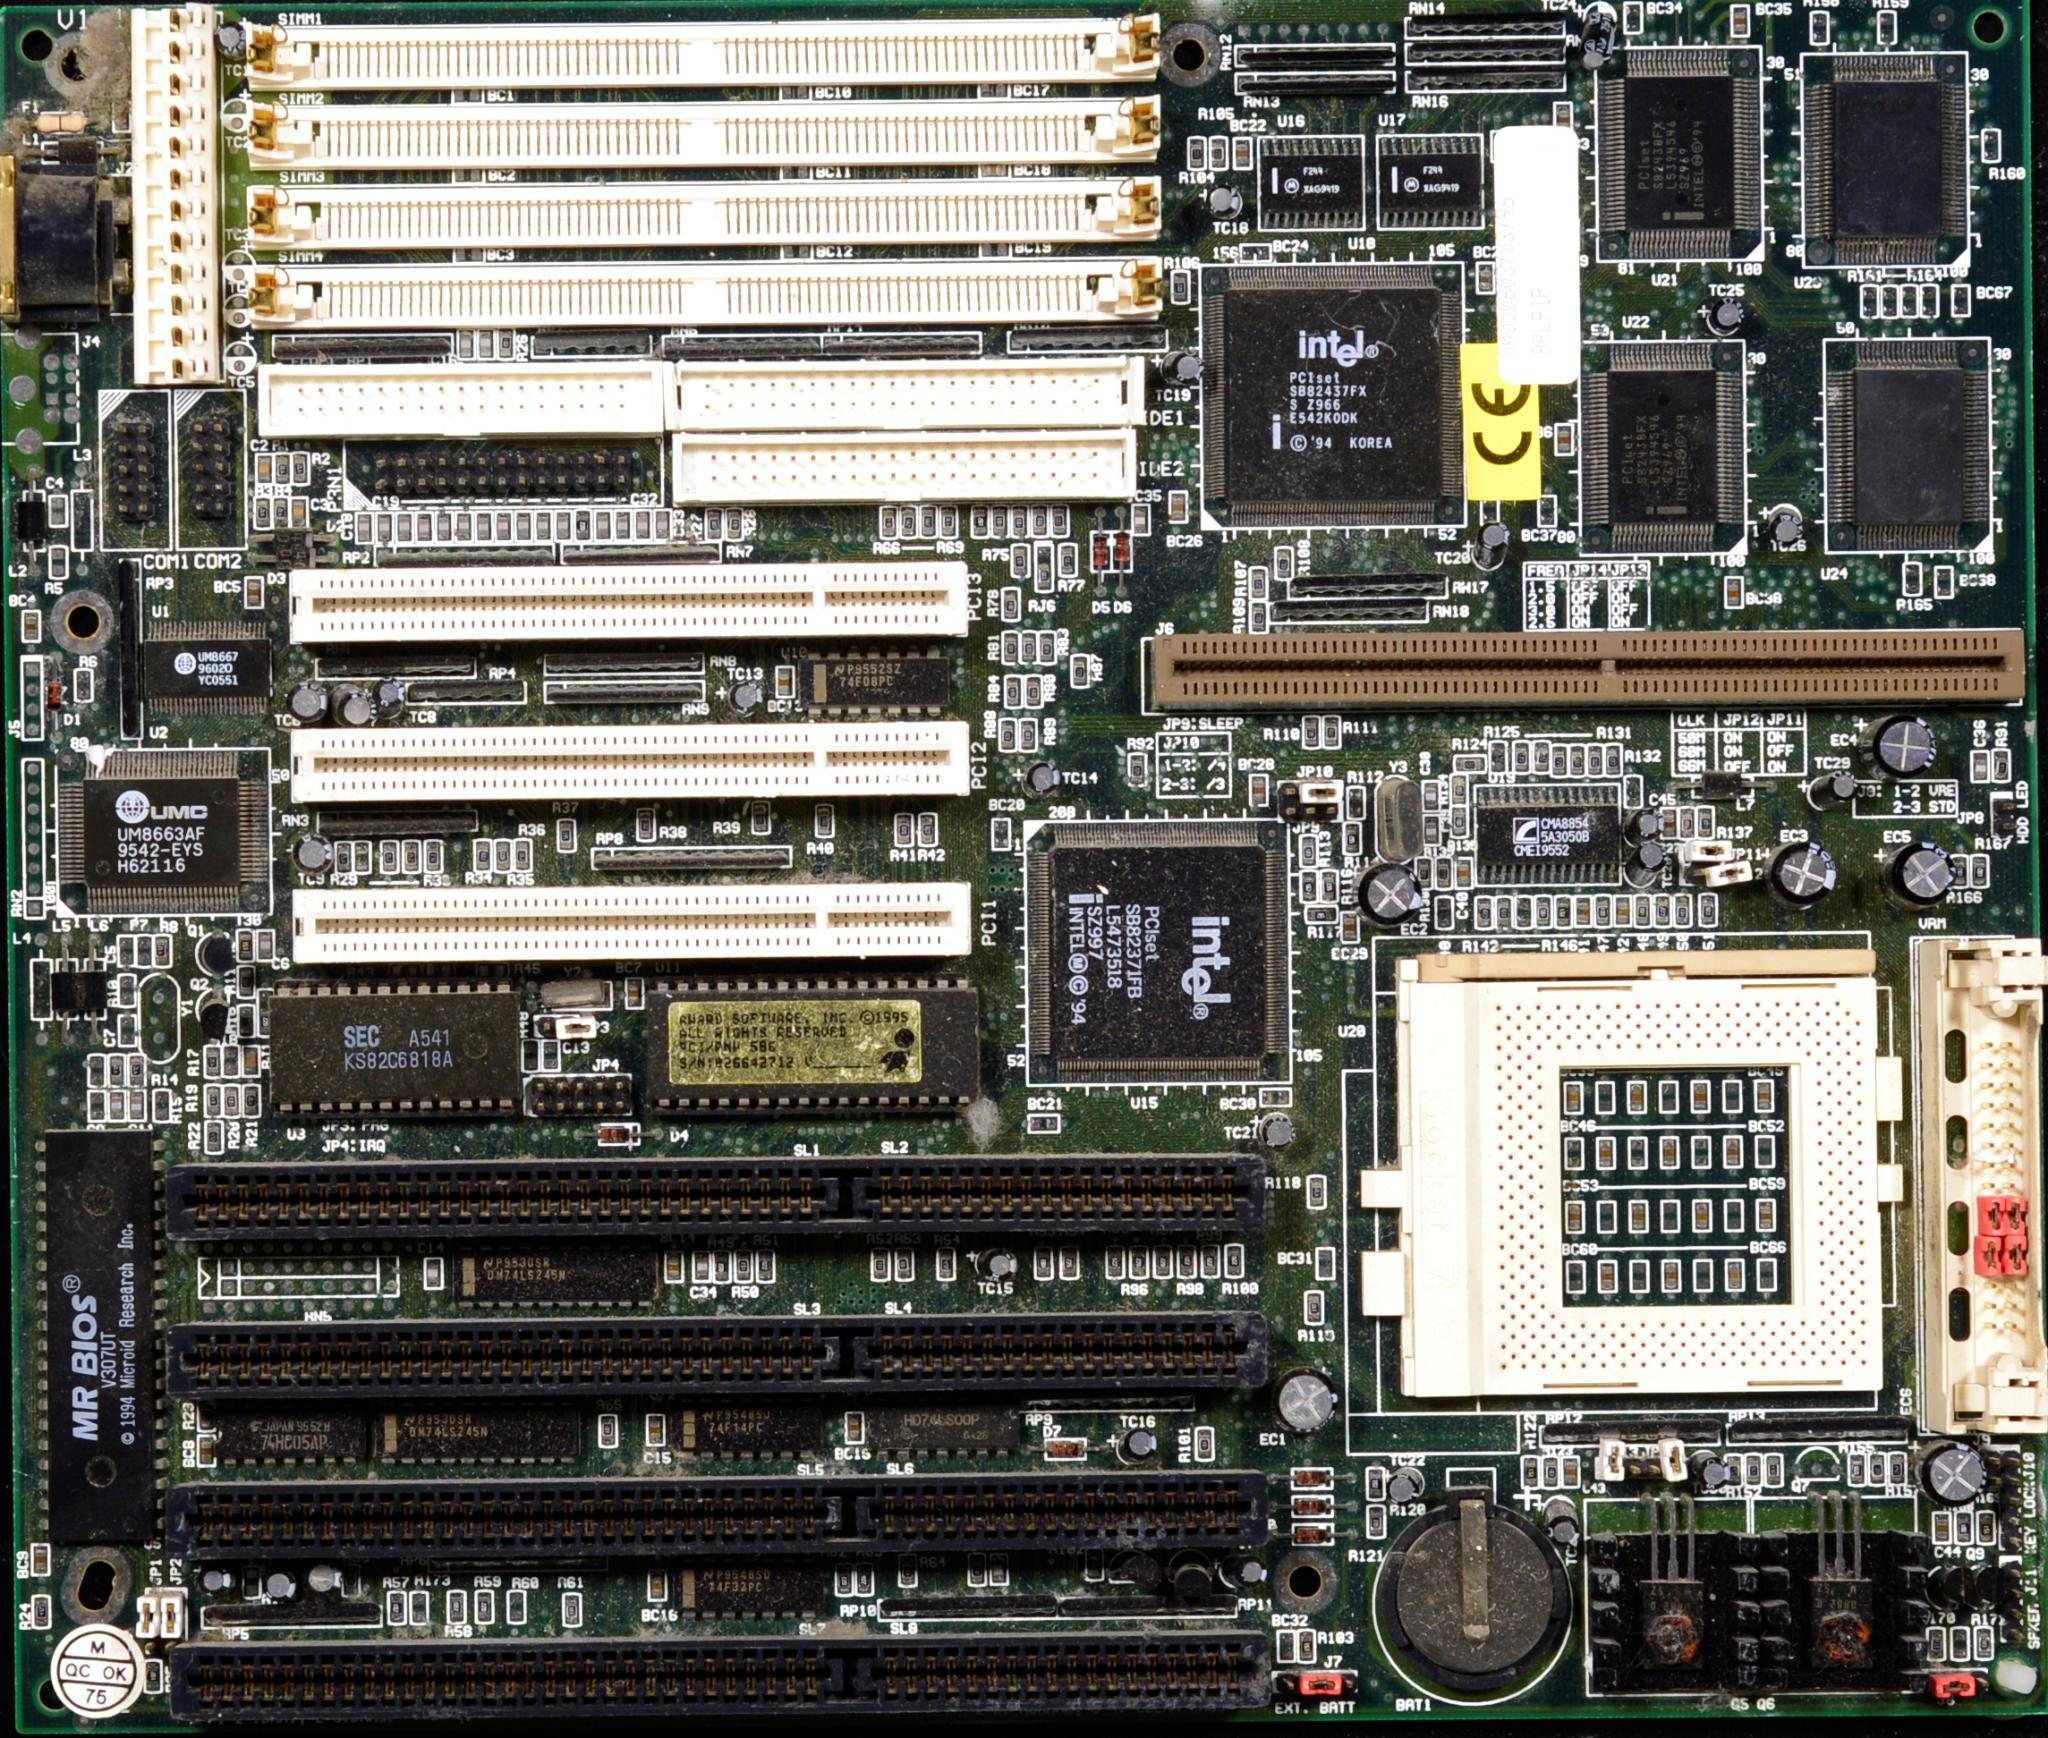Capacitor Jumper: (664, 1240, 681, 1279), (240, 1043, 259, 1076), (1560, 1455, 1579, 1488), (414, 510, 433, 543), (1969, 748, 1988, 781), (691, 1241, 707, 1281), (541, 1038, 560, 1069), (653, 509, 672, 540), (533, 510, 552, 541), (1474, 895, 1491, 928), (1341, 909, 1358, 941), (434, 510, 452, 543), (493, 510, 510, 543), (1612, 895, 1631, 924), (552, 510, 571, 540), (396, 510, 412, 543), (453, 510, 469, 543), (646, 1414, 664, 1443), (1658, 807, 1676, 836), (50, 493, 66, 524), (291, 495, 307, 526), (376, 512, 391, 543), (514, 512, 529, 543), (474, 512, 490, 543), (1934, 1512, 1950, 1541), (1133, 505, 1148, 535), (1457, 859, 1472, 888), (255, 453, 271, 481), (633, 510, 648, 538), (574, 512, 590, 540), (1679, 807, 1693, 838), (593, 509, 607, 538), (614, 510, 628, 540)
Connector: (1143, 633, 2034, 707), (1919, 933, 2048, 1435), (231, 266, 1171, 328), (224, 17, 1157, 79), (243, 181, 1169, 241), (226, 100, 1162, 159), (176, 1317, 840, 1391), (176, 1164, 833, 1236), (291, 888, 971, 957), (186, 1485, 845, 1555), (290, 726, 972, 793), (172, 1643, 852, 1710), (290, 567, 965, 635), (252, 357, 676, 441), (131, 9, 221, 381), (679, 357, 1140, 429), (667, 434, 1133, 503), (843, 1160, 1267, 1233), (852, 1317, 1258, 1391), (855, 1478, 1276, 1543), (855, 1635, 1265, 1698), (357, 447, 657, 493)
IC: (1371, 926, 1914, 1410), (1200, 271, 1464, 529), (1029, 829, 1284, 1079), (33, 1128, 167, 1559), (59, 745, 274, 917), (1591, 47, 1764, 260), (1800, 60, 1969, 274), (1826, 338, 1989, 555), (1584, 341, 1748, 550), (1472, 779, 1627, 885), (450, 1248, 660, 1307), (145, 621, 272, 716), (796, 648, 952, 714), (205, 1400, 364, 1464), (1257, 138, 1362, 228), (1374, 140, 1479, 222), (871, 1409, 1022, 1457), (683, 1412, 822, 1459)
Resistor Jumper: (1858, 283, 1879, 319), (386, 1588, 405, 1626), (1969, 852, 1988, 888), (1303, 1290, 1322, 1324), (86, 1090, 107, 1121), (1903, 559, 1920, 595), (1305, 902, 1338, 921), (110, 1055, 129, 1088), (241, 1086, 260, 1119), (126, 1090, 145, 1122), (1976, 1509, 1995, 1541), (446, 1590, 465, 1622), (1250, 600, 1269, 633), (1346, 786, 1365, 819), (1300, 833, 1319, 866), (1553, 893, 1570, 928), (1129, 1241, 1146, 1276), (1367, 1502, 1384, 1536), (1298, 1628, 1315, 1662), (76, 669, 93, 703), (814, 802, 831, 836), (1343, 821, 1360, 855), (1670, 893, 1689, 924), (129, 1057, 148, 1088), (1888, 1454, 1907, 1485), (88, 1053, 105, 1086), (1200, 1241, 1217, 1274), (1226, 1243, 1243, 1276), (757, 1247, 774, 1279), (733, 1248, 750, 1281), (1848, 1452, 1865, 1485), (1869, 1452, 1886, 1485), (478, 1590, 495, 1622), (1929, 1626, 1946, 1659), (1008, 505, 1026, 538), (940, 505, 957, 538), (1071, 655, 1088, 688), (1420, 779, 1438, 812), (896, 814, 914, 847), (557, 817, 574, 850), (1900, 284, 1915, 321), (1743, 1454, 1762, 1483), (990, 509, 1008, 538), (1422, 816, 1441, 845), (1153, 1240, 1169, 1274), (1974, 1626, 1991, 1657), (1881, 284, 1898, 316), (900, 503, 915, 538), (1050, 507, 1067, 538), (1036, 560, 1052, 595), (1002, 631, 1019, 662), (1022, 676, 1040, 707), (998, 719, 1015, 750), (1019, 719, 1036, 750), (1991, 750, 2008, 781), (1696, 807, 1714, 838), (424, 840, 441, 871), (514, 840, 531, 871), (352, 841, 369, 872), (381, 840, 396, 874), (1879, 12, 1898, 40), (1584, 745, 1603, 772), (1534, 893, 1550, 926), (224, 1043, 240, 1076), (1107, 1243, 1122, 1276), (938, 1245, 953, 1278), (872, 1245, 888, 1278), (1541, 1455, 1557, 1488), (410, 1591, 426, 1624), (1014, 543, 1029, 576), (1058, 543, 1074, 576), (1276, 545, 1291, 578), (1129, 753, 1145, 786), (493, 838, 509, 871), (1950, 855, 1965, 888), (1300, 869, 1315, 902), (1633, 895, 1650, 924), (197, 1400, 214, 1429), (1955, 1512, 1972, 1541), (1919, 288, 1936, 317), (1040, 628, 1053, 664), (205, 1085, 221, 1116), (109, 1088, 124, 1119), (205, 1122, 221, 1153), (1307, 1176, 1322, 1207), (1195, 1428, 1210, 1459), (1210, 138, 1226, 169), (1953, 1626, 1969, 1657), (879, 507, 895, 538), (707, 507, 722, 538), (724, 509, 740, 540), (52, 547, 67, 578), (1250, 566, 1265, 597), (1303, 716, 1319, 747), (1489, 741, 1505, 772), (1550, 745, 1565, 776), (1450, 772, 1465, 803), (638, 809, 653, 840), (403, 840, 419, 871), (474, 840, 490, 871), (1038, 1238, 1050, 1278), (153, 1091, 171, 1119), (898, 1245, 912, 1279), (253, 497, 267, 531), (1698, 895, 1714, 924), (522, 1040, 538, 1069), (1003, 588, 1019, 617), (919, 816, 934, 845), (1415, 859, 1431, 888), (1517, 895, 1531, 928), (226, 1085, 240, 1117), (1062, 1243, 1076, 1276), (509, 1588, 522, 1621), (1031, 503, 1045, 536), (921, 505, 934, 538), (1453, 755, 1486, 769), (336, 840, 350, 872), (1322, 869, 1336, 902), (1593, 897, 1608, 924), (1495, 897, 1510, 924), (1653, 895, 1667, 926), (1179, 1245, 1193, 1276), (1726, 1454, 1741, 1481), (1765, 1452, 1779, 1483), (1522, 1454, 1536, 1485), (1188, 138, 1202, 169), (1812, 12, 1826, 43), (274, 452, 288, 483), (972, 505, 986, 536), (1005, 676, 1019, 707), (1324, 714, 1338, 745), (1605, 743, 1619, 774), (1434, 859, 1450, 886), (1022, 629, 1034, 664), (565, 1593, 579, 1622), (293, 453, 307, 483), (1534, 741, 1548, 771), (1514, 741, 1527, 771), (1569, 745, 1583, 774), (753, 802, 767, 831), (712, 1247, 724, 1279), (355, 512, 369, 540), (203, 1047, 215, 1078), (276, 497, 288, 528), (1557, 105, 1570, 131), (1577, 895, 1588, 924)
iC: (643, 976, 979, 1116), (269, 990, 522, 1119), (378, 1404, 584, 1462)
